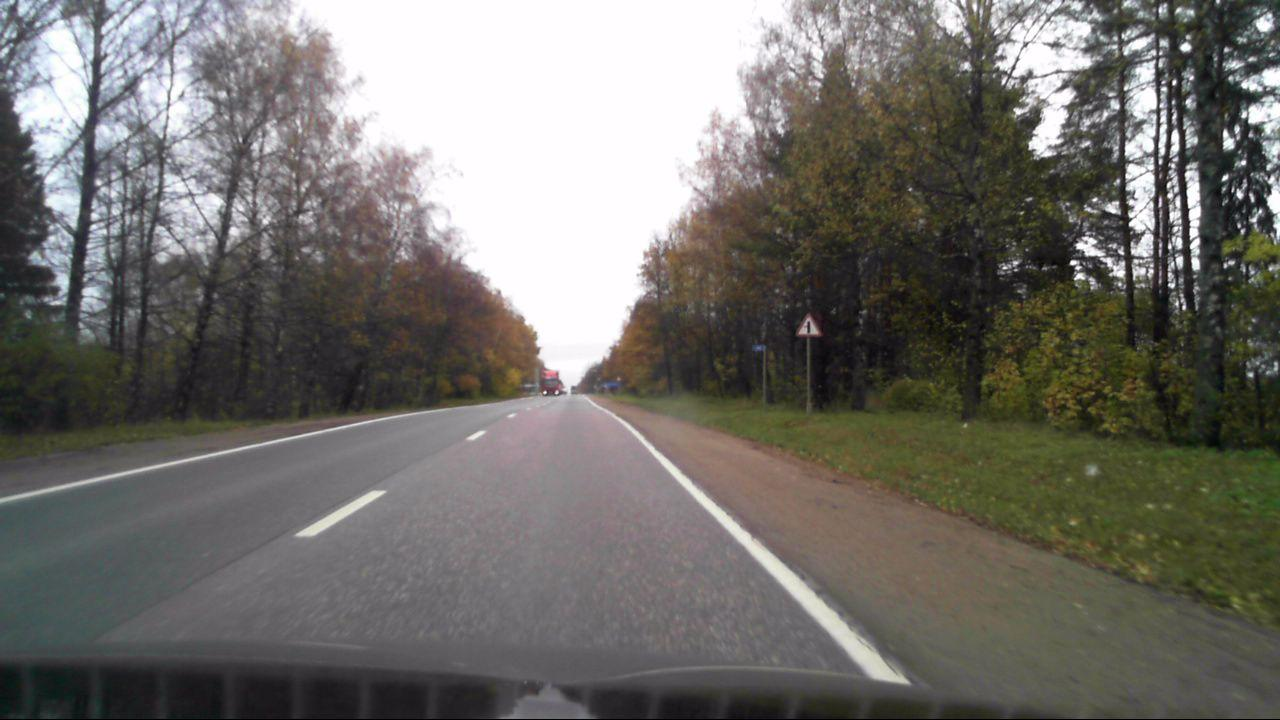2_3_3: (794, 312, 821, 336)
